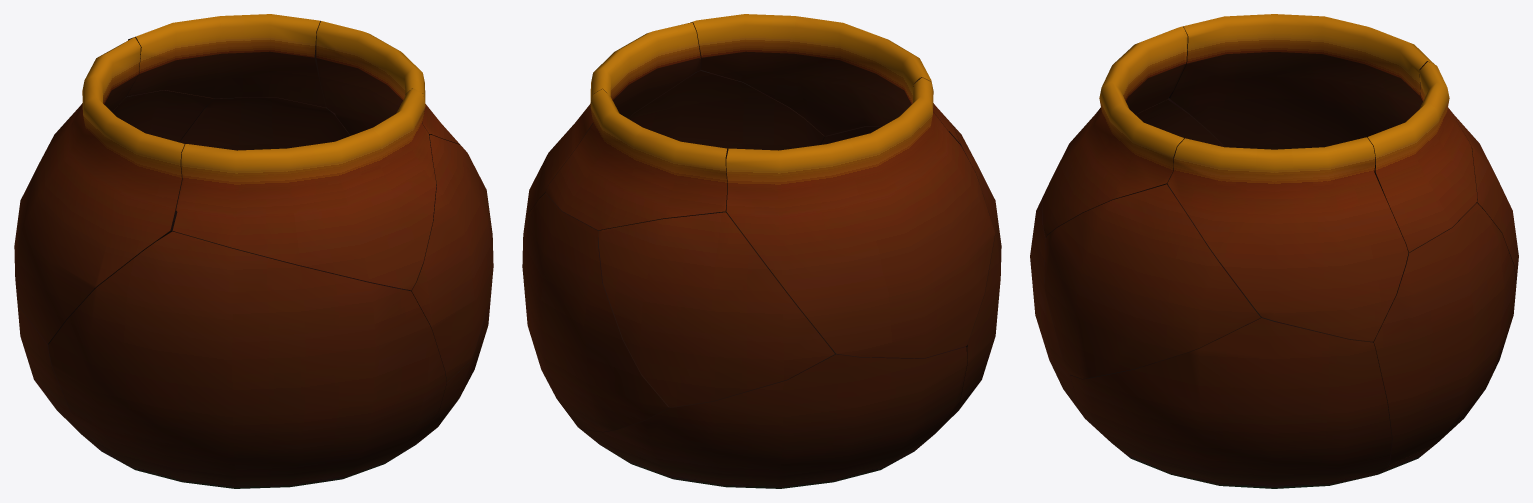
The model's file is Pot_Large_Shards.glb.
3 views of the same model, side by side, from view 1: azimuth 30°, elevation 25°; view 2: azimuth 150°, elevation 25°; view 3: azimuth 270°, elevation 25° (orthographic).
Visible parts, largest first — view 1: Shard_08, Shard_05, Shard_07, Shard_03, Shard_00, Shard_02, Shard_09, Shard_06, Shard_01, Shard_04; view 2: Shard_07, Shard_01, Shard_06, Shard_09, Shard_05, Shard_03, Shard_00, Shard_02, Shard_08; view 3: Shard_04, Shard_02, Shard_07, Shard_00, Shard_09, Shard_05, Shard_03, Shard_08, Shard_06.
Boxes of the visible parts, <box> form: Shard_08: <box>48,231,446,488</box>; Shard_05: <box>172,88,436,290</box>; Shard_07: <box>14,37,184,344</box>; Shard_03: <box>126,14,326,107</box>; Shard_00: <box>407,134,493,382</box>; Shard_02: <box>316,21,460,144</box>; Shard_09: <box>179,97,350,150</box>; Shard_06: <box>112,90,213,142</box>; Shard_01: <box>17,304,119,461</box>; Shard_04: <box>401,231,492,453</box>; Shard_07: <box>726,77,994,358</box>; Shard_01: <box>580,346,967,488</box>; Shard_06: <box>598,212,834,407</box>; Shard_09: <box>522,193,669,431</box>; Shard_05: <box>690,14,960,144</box>; Shard_03: <box>545,89,728,230</box>; Shard_00: <box>628,70,825,150</box>; Shard_02: <box>524,22,700,237</box>; Shard_08: <box>821,125,1001,424</box>; Shard_04: <box>1070,316,1391,488</box>; Shard_02: <box>1167,137,1408,341</box>; Shard_07: <box>1169,14,1434,149</box>; Shard_00: <box>1044,184,1260,378</box>; Shard_09: <box>1373,202,1516,465</box>; Shard_05: <box>1043,26,1187,237</box>; Shard_03: <box>1367,62,1477,252</box>; Shard_08: <box>1030,98,1225,429</box>; Shard_06: <box>1451,111,1518,285</box>.
Size of the model in its own units: 0.8733 by 0.6643 by 0.8851.
Materials: 1 (1 with a texture image).
